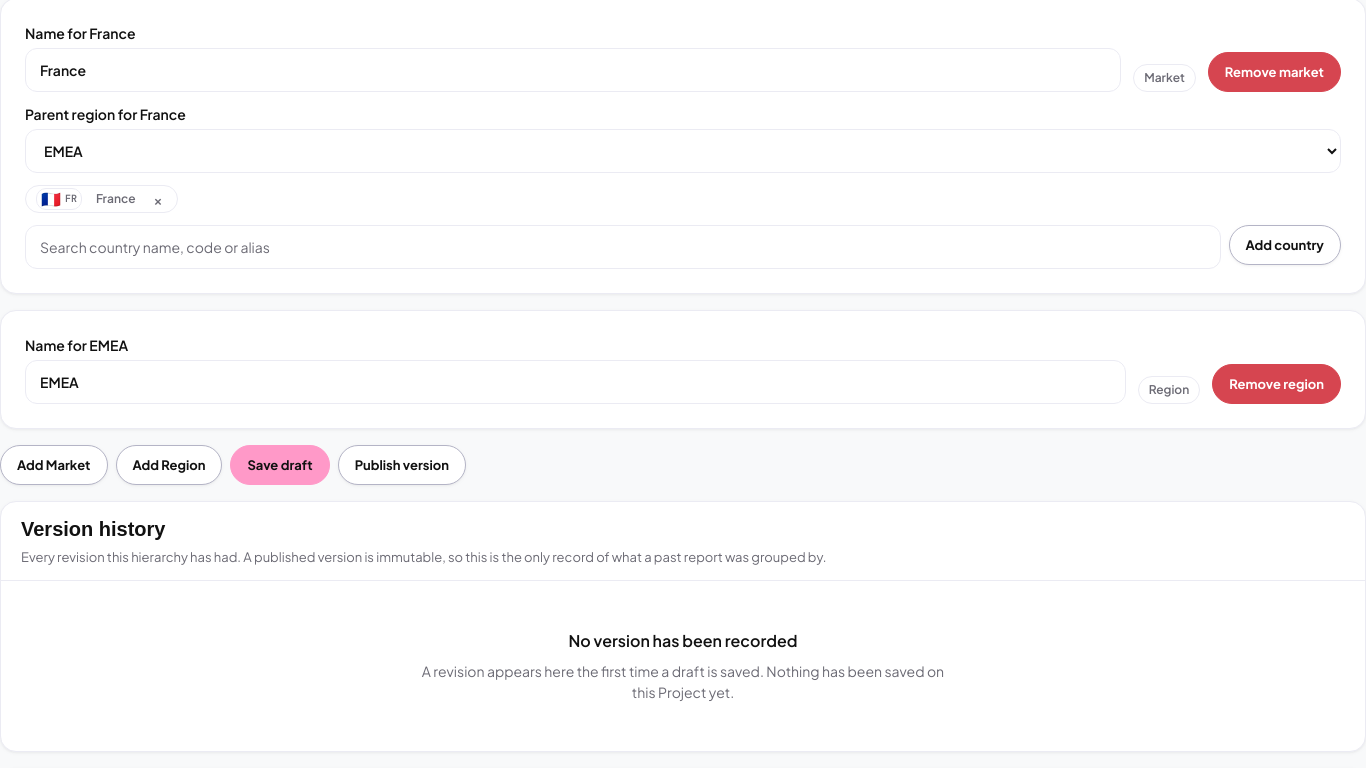
Test: Country Governance workspace › counts the nested Markets a Region takes with it, and cancelling changes nothing
(page scrolled)
Click the button "Remove region" at coordinates (1277, 384), box [1212, 364, 1341, 404]
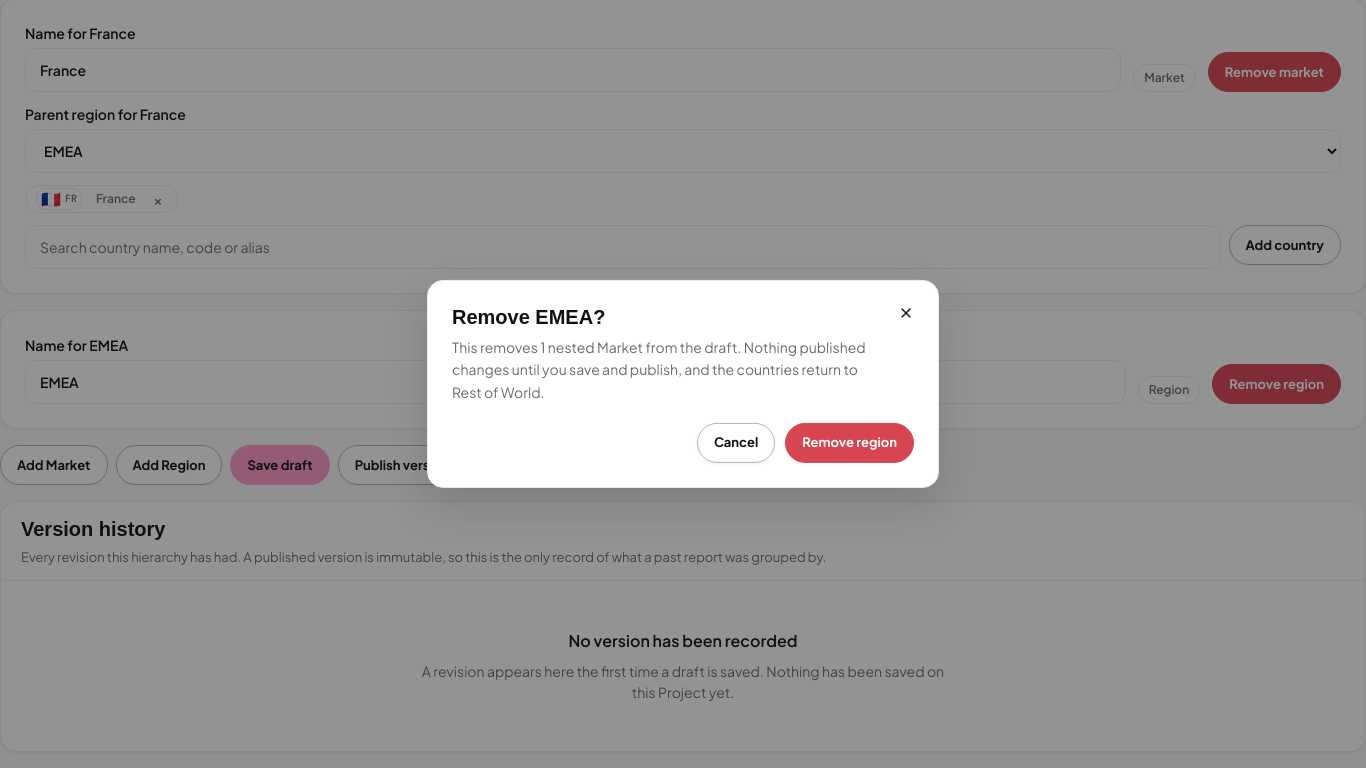
Result: the text "This removes 1 nested Market from the draft" is shown at [452, 338, 866, 401]
Click the button with test id "country-remove-cancel" at coordinates (736, 443), box [697, 423, 775, 463]
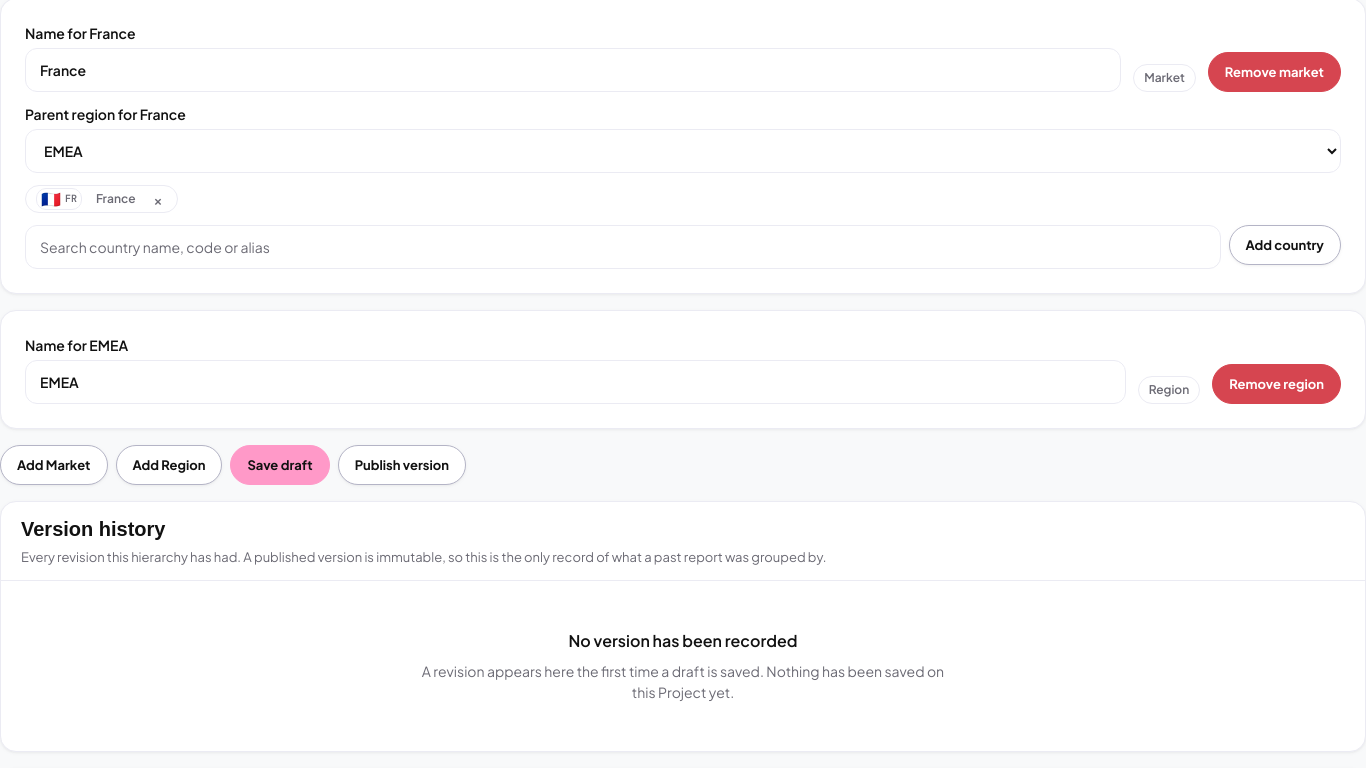
Expected: the field labelled "Name for EMEA" is shown, [25, 360, 1126, 404]
Result: the button with test id "country-remove-confirm" is gone
